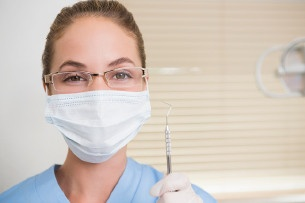Mask: (44, 51, 157, 164)
